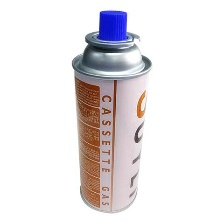aerosol_cans: (67, 5, 153, 215)
